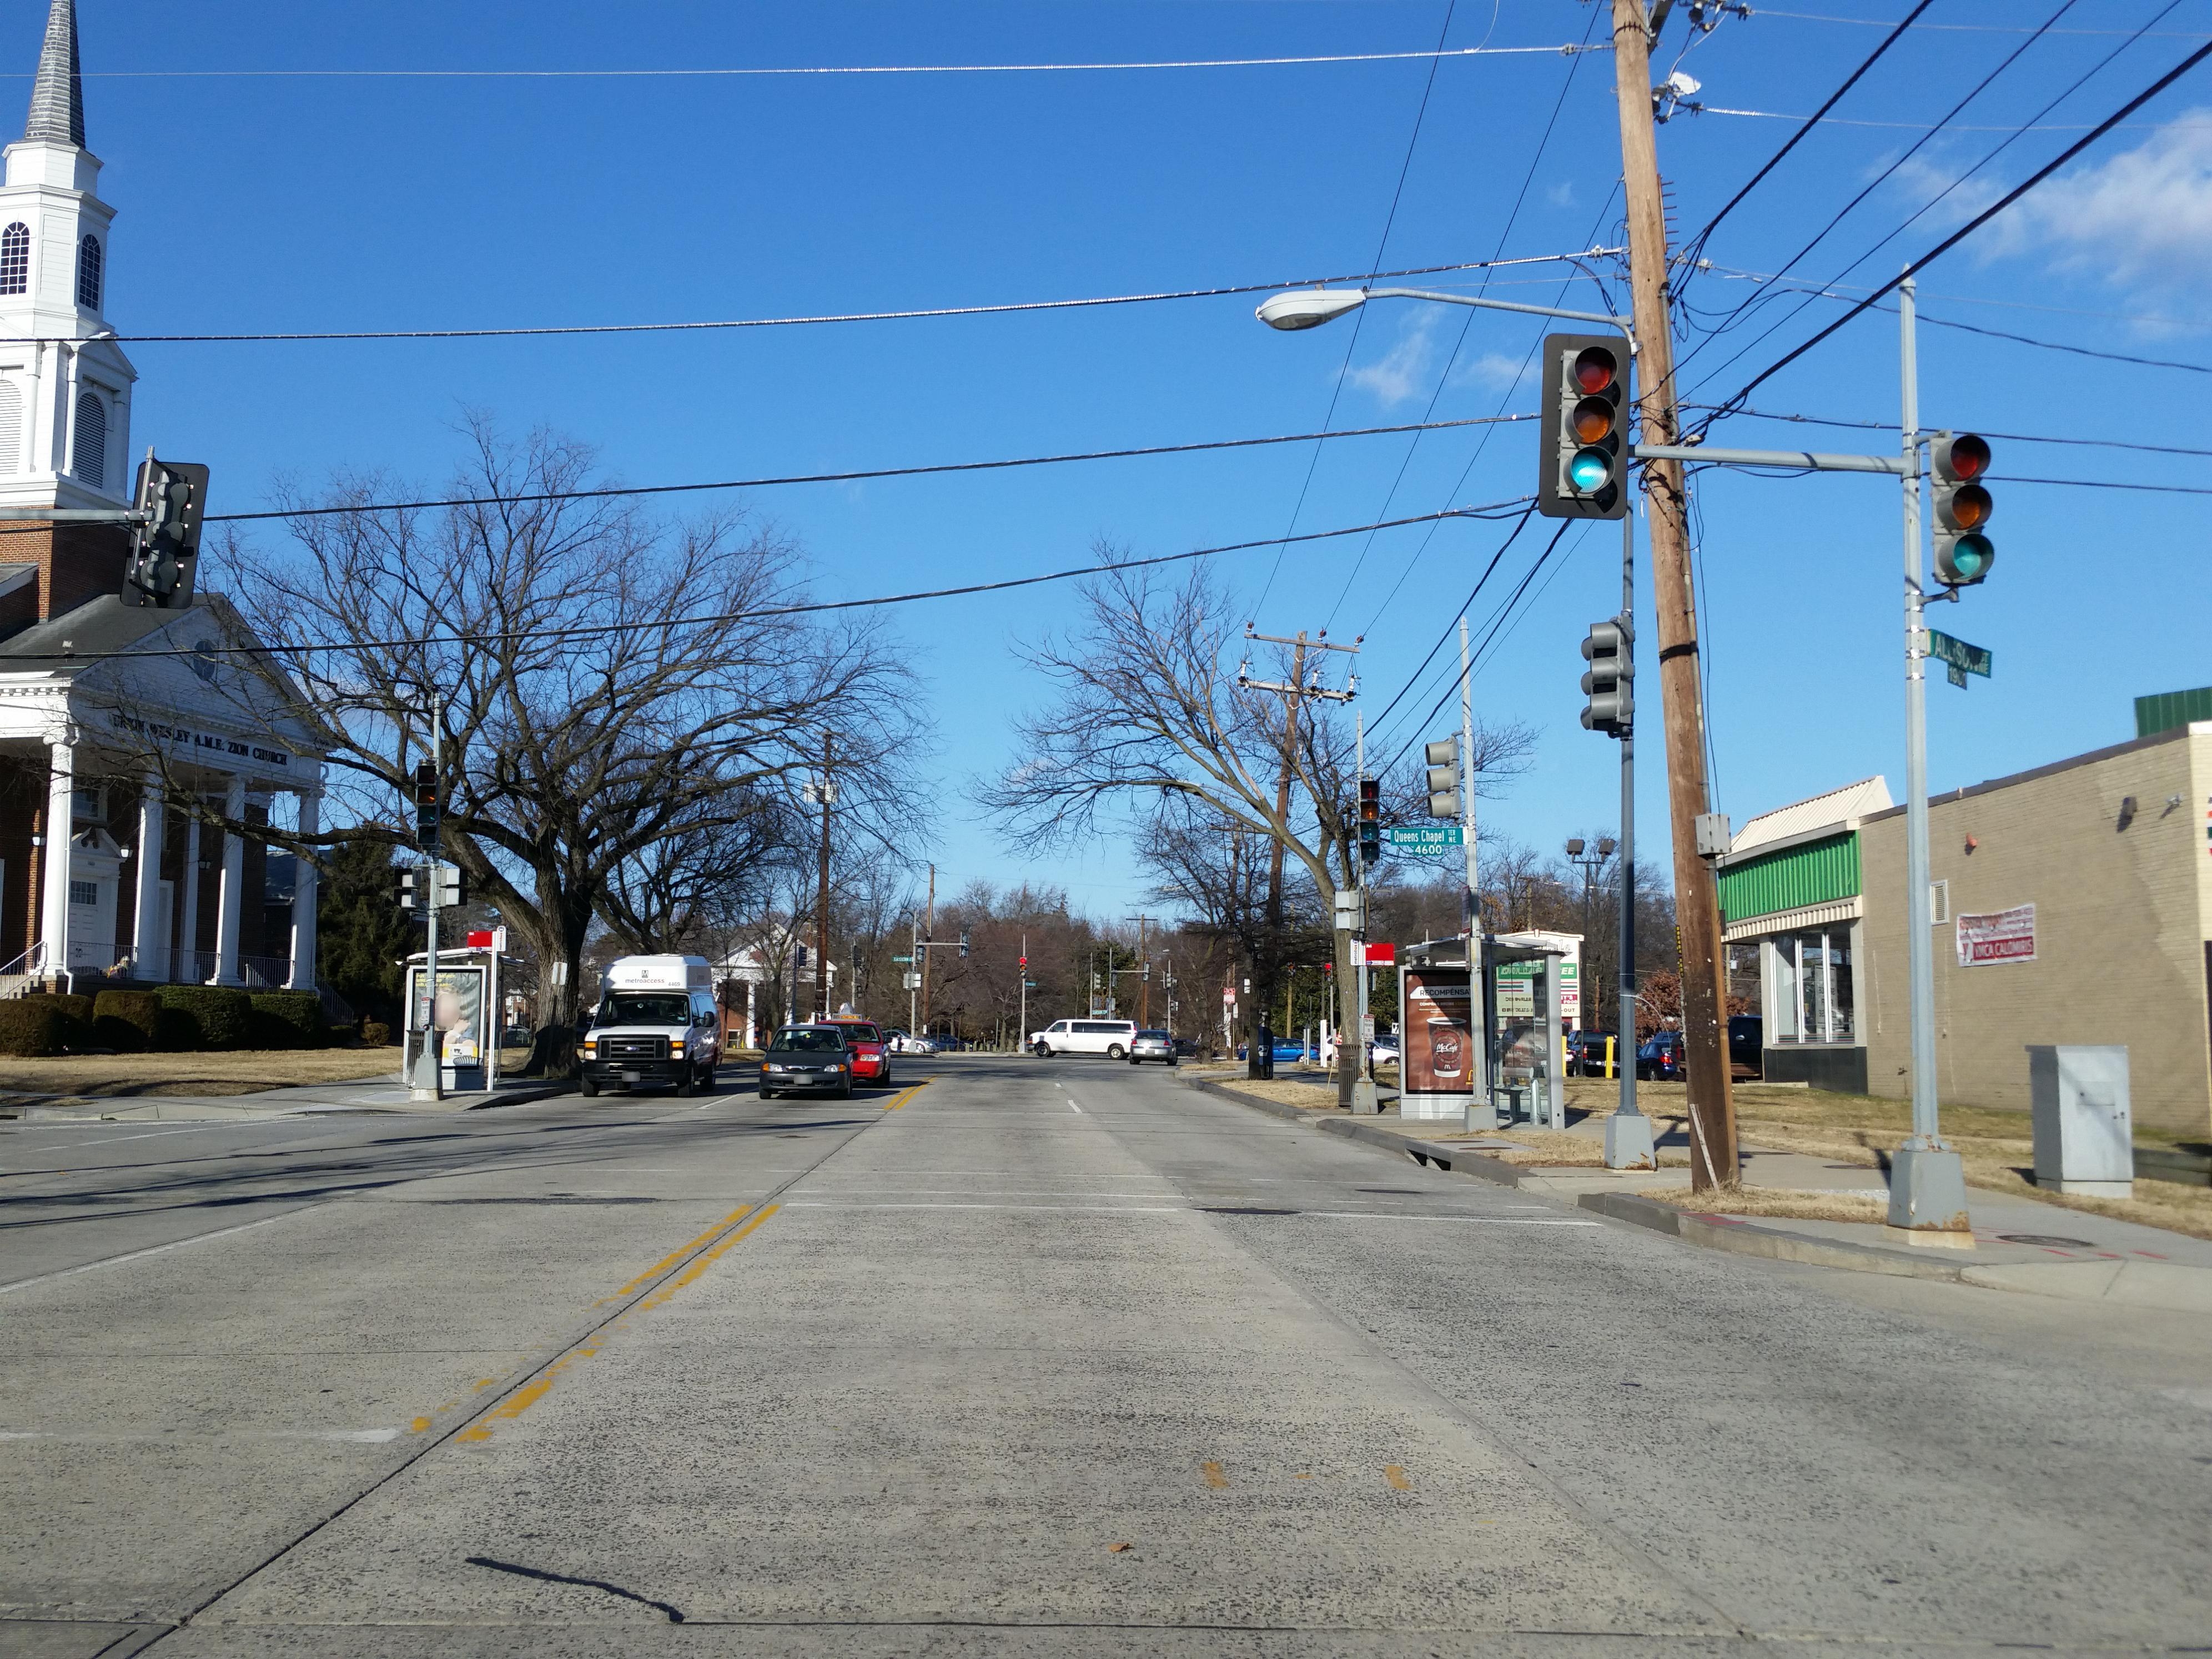vinyl banner: (1933, 885, 2067, 986)
